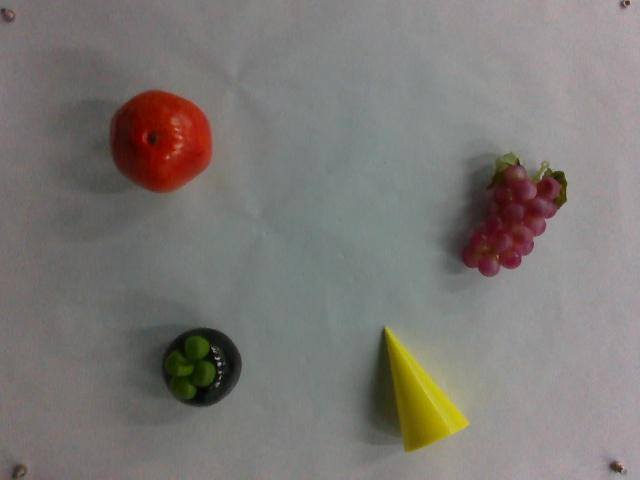cone: (383, 324, 467, 453)
grape: (452, 152, 569, 279)
mangosteen: (162, 331, 243, 409)
pomegranate: (109, 89, 212, 193)
